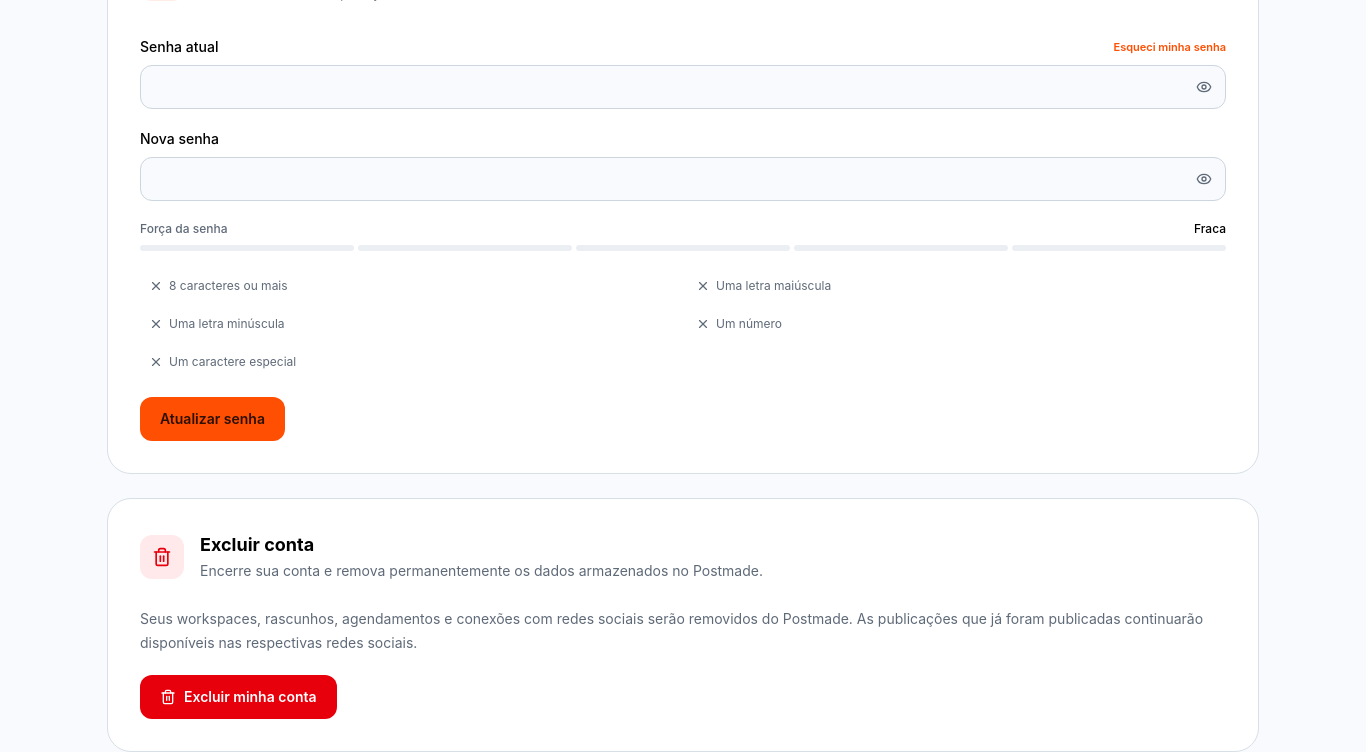
AccountPage › allows deletion when an active subscription is already canceling
(page scrolled)
Click the button "Excluir minha conta": coordinates (238, 697) [140,675,337,719]
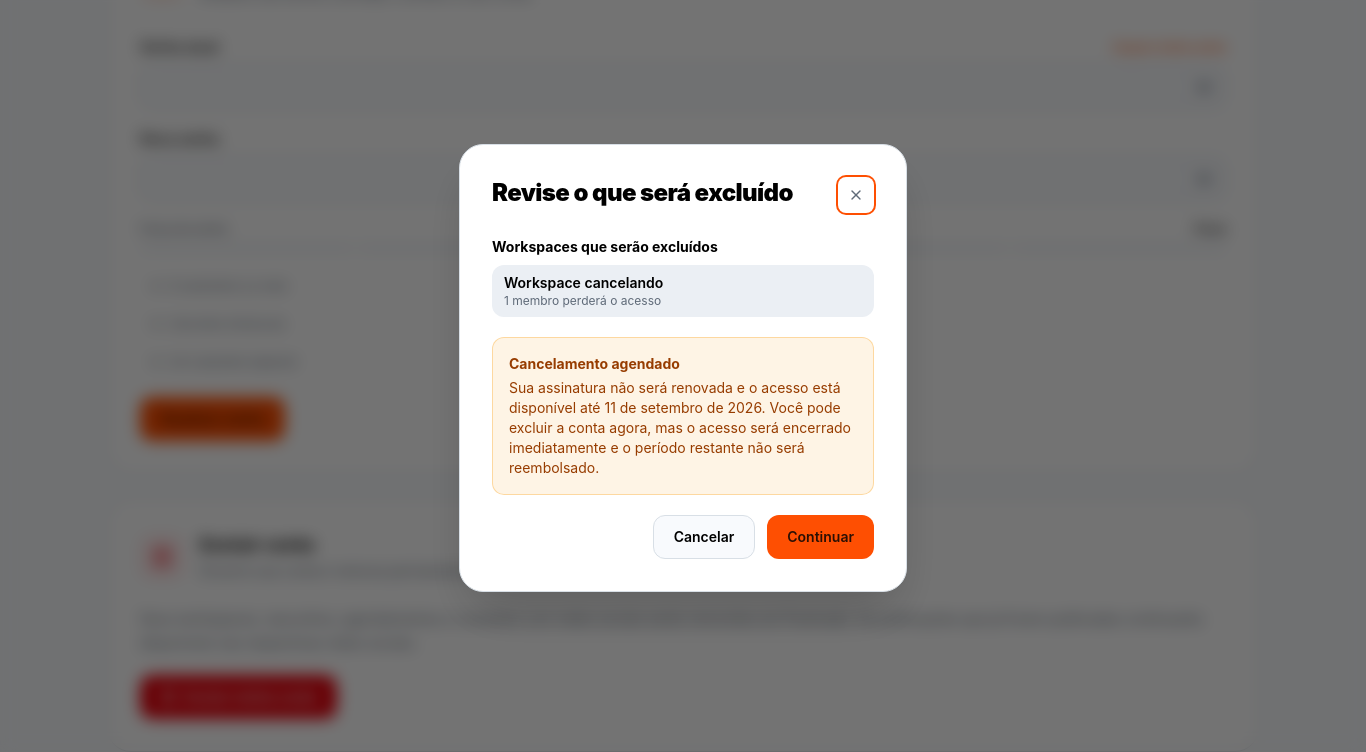
Result: the text "Cancelamento agendado" is shown at [509,355,680,372]
Result: the text "acesso será encerrado imediatamente e o período restante não será reembolsado" is shown at [509,379,851,476]
Result: the button "Continuar" is enabled at [767,515,874,559]
